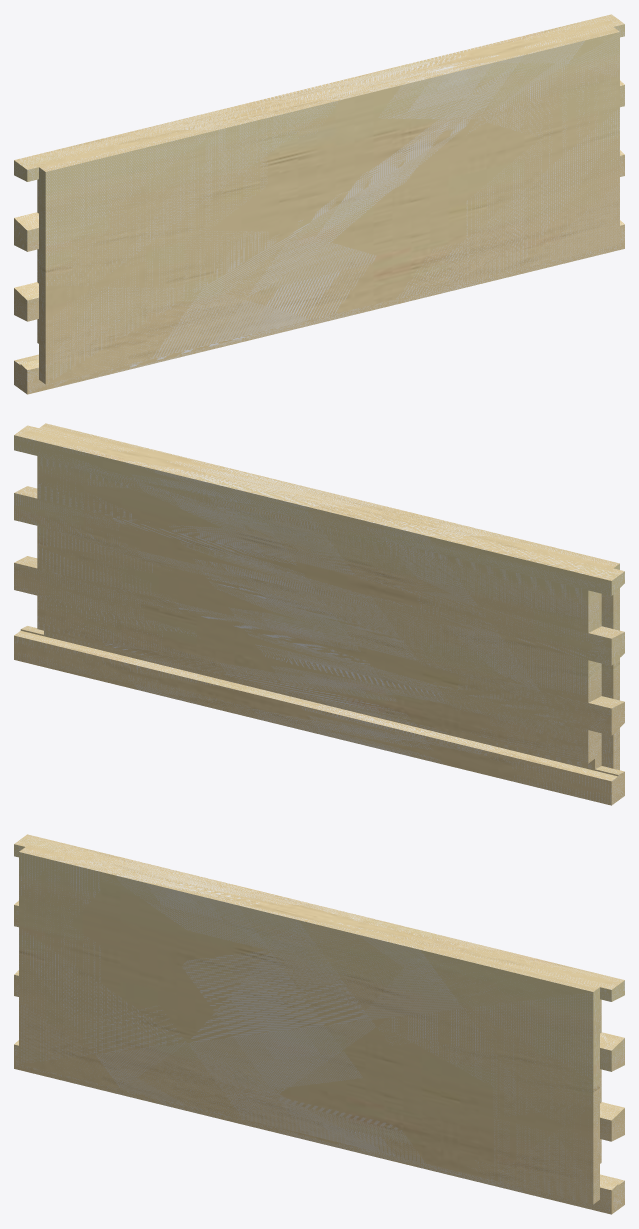
File: original-7.obj
3 views of the same model, one above another, from view 1: azimuth 30°, elevation 25°; view 2: azimuth 150°, elevation 25°; view 3: azimuth 330°, elevation 25° (orthographic).
Visible parts, largest first — view 1: Drawer_Front1/Drawer_Front/mesh5/mesh5-geometry#mesh5-geometry; view 2: Drawer_Front1/Drawer_Front/mesh5/mesh5-geometry#mesh5-geometry; view 3: Drawer_Front1/Drawer_Front/mesh5/mesh5-geometry#mesh5-geometry.
Part boxes in pixels (<box>): Drawer_Front1/Drawer_Front/mesh5/mesh5-geometry#mesh5-geometry: <box>14,14,624,394</box>; Drawer_Front1/Drawer_Front/mesh5/mesh5-geometry#mesh5-geometry: <box>14,423,624,805</box>; Drawer_Front1/Drawer_Front/mesh5/mesh5-geometry#mesh5-geometry: <box>14,834,624,1214</box>.
Size of the model in its own units: 0.5163 by 0.1855 by 0.0301.
